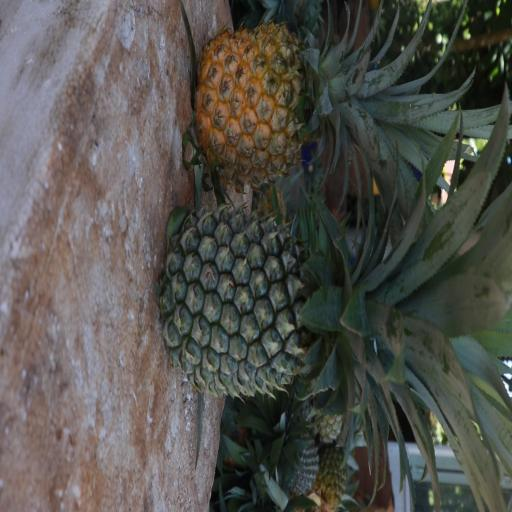Pineapple - v8 v1: (198, 23, 451, 182)
